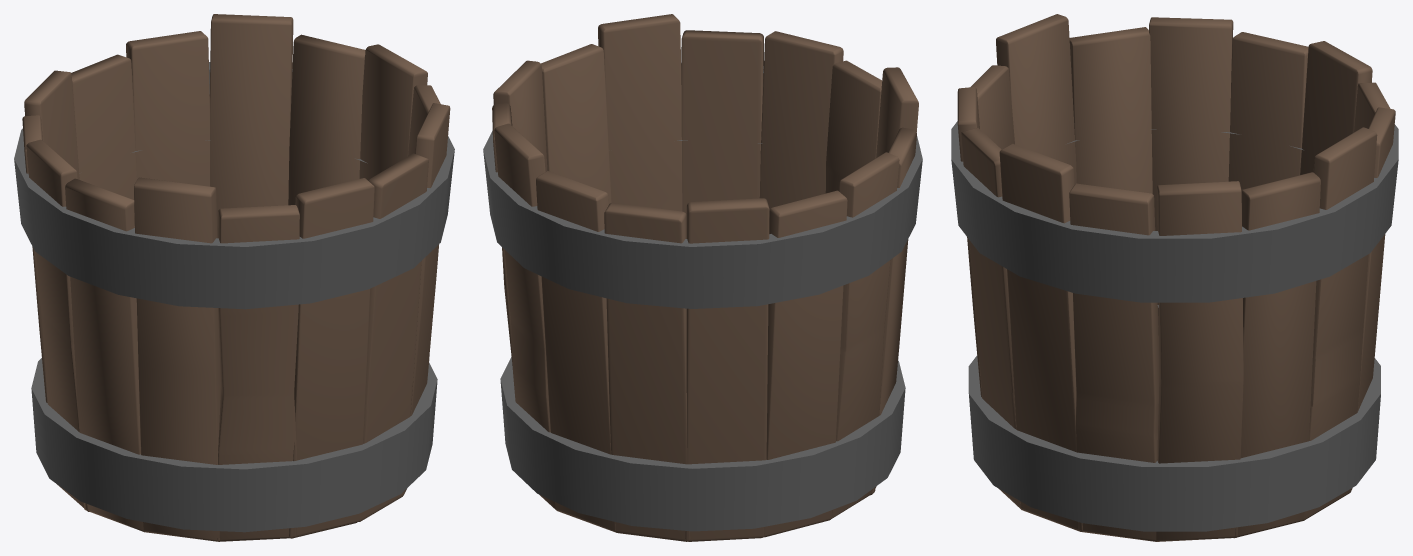
Rendered from Bucket.fbx.
3 renders of one model, left to right at view 1: azimuth 30°, elevation 25°; view 2: azimuth 150°, elevation 25°; view 3: azimuth 270°, elevation 25°, orthographic. The views are drawn at different scales.
Parts seen in each view (by area): view 1: Bucket; view 2: Bucket; view 3: Bucket.
Boxes of the visible parts, <box> form: Bucket: <box>14,14,454,541</box>; Bucket: <box>483,14,922,541</box>; Bucket: <box>951,14,1398,541</box>.
Size of the model in its own units: 2.62 by 2.4 by 2.62.
